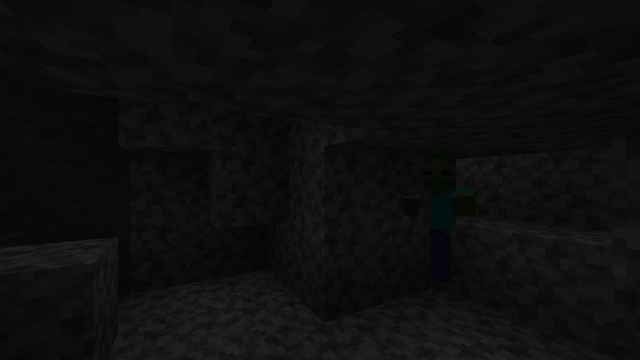zombies: (422, 155, 467, 298)
